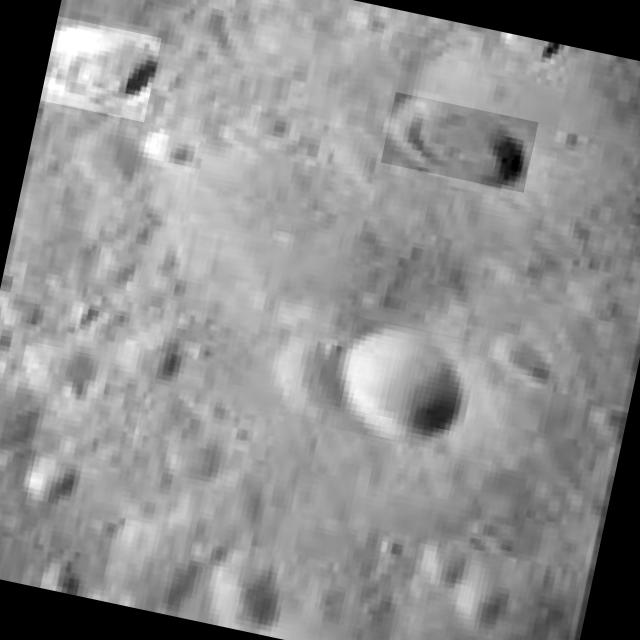crater: (330, 314, 472, 452), (380, 91, 538, 192), (40, 16, 162, 122)
